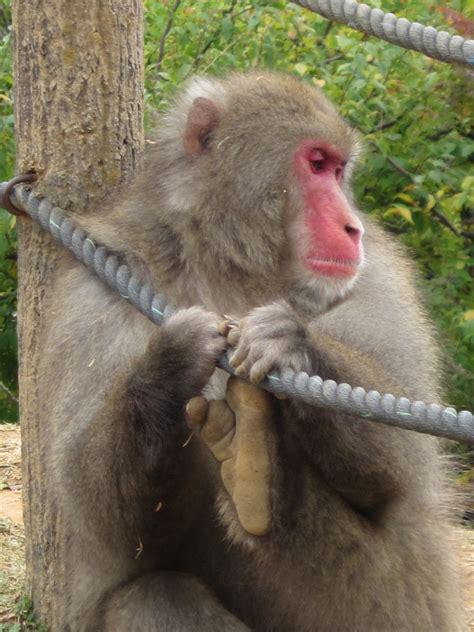monkey: (60, 76, 450, 630)
